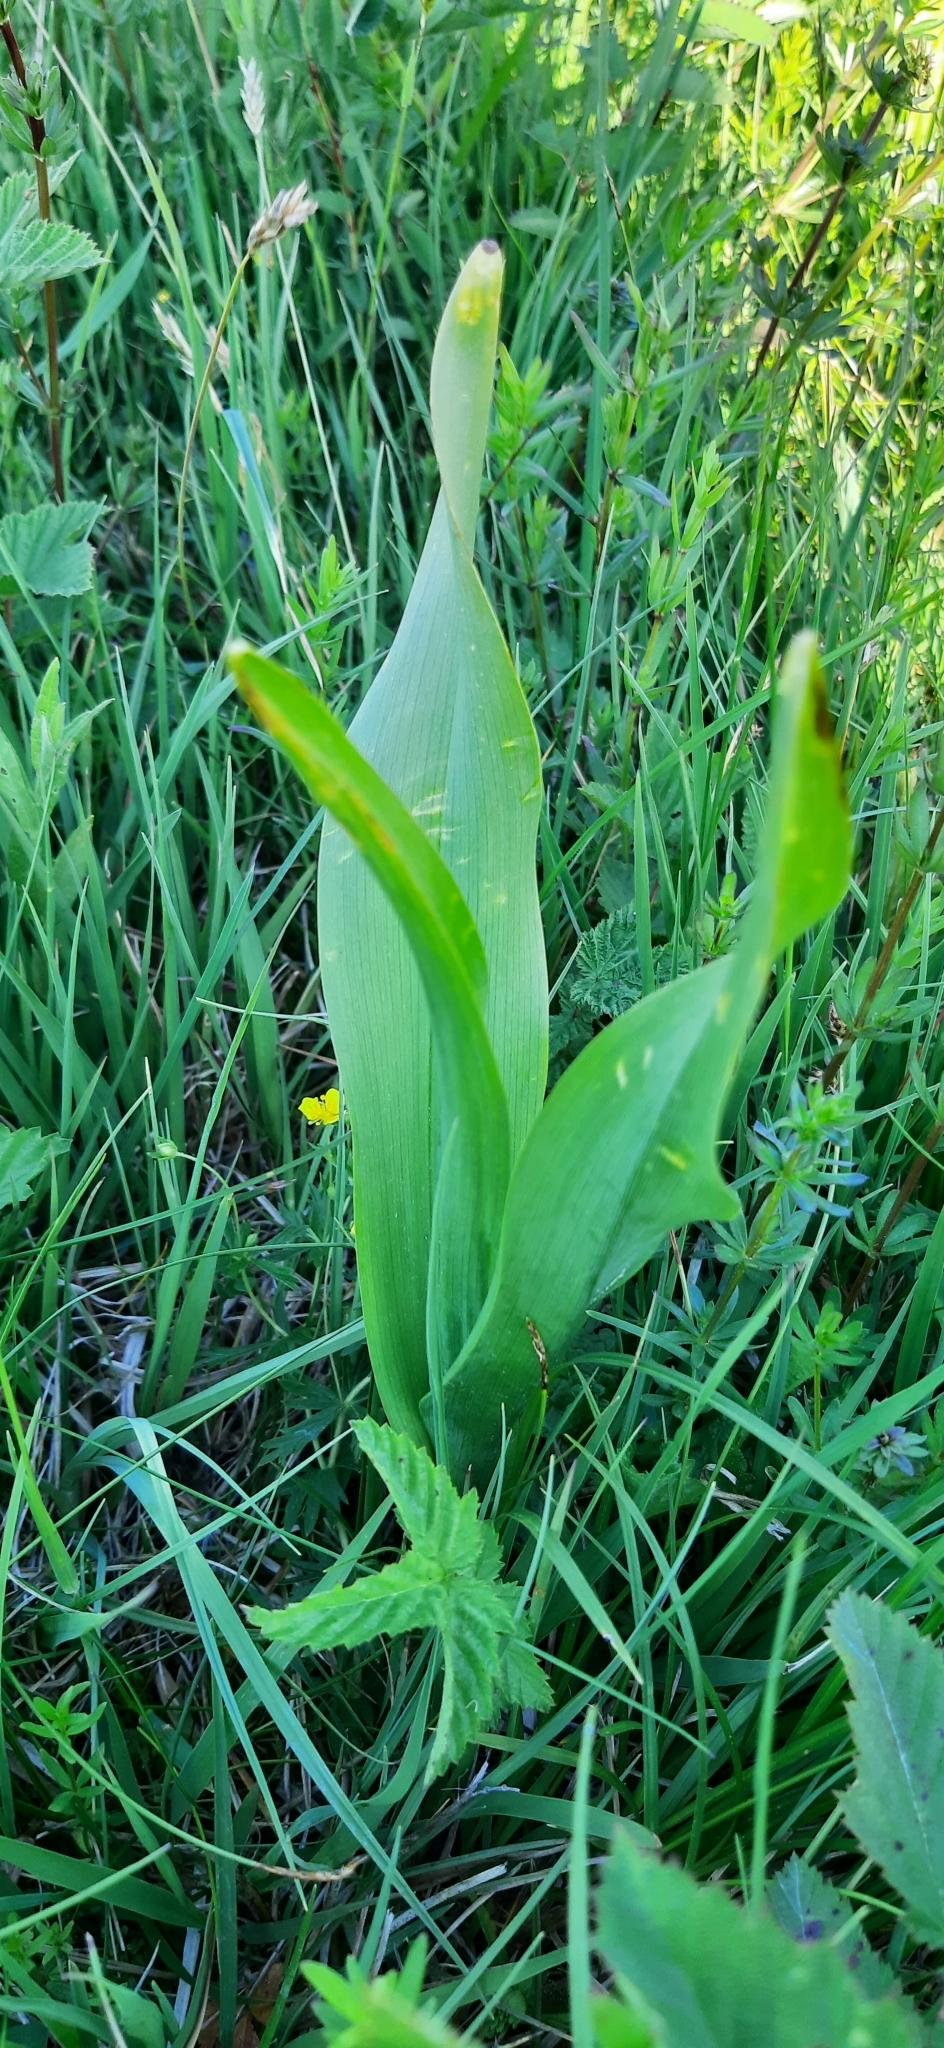Colchicum autumnale L: (242, 184, 868, 1701)
